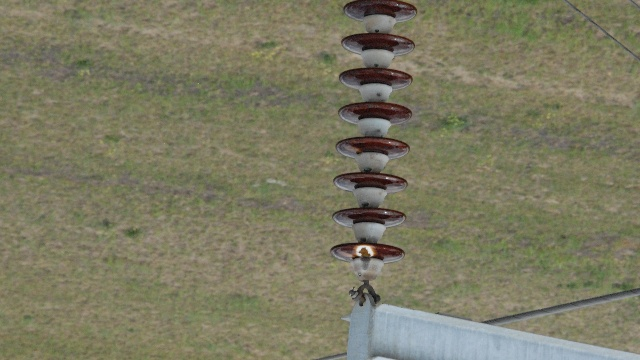insulator_unspecified: (330, 0, 419, 264)
pollution_flashover_local: (353, 243, 378, 259), (343, 142, 362, 154)
